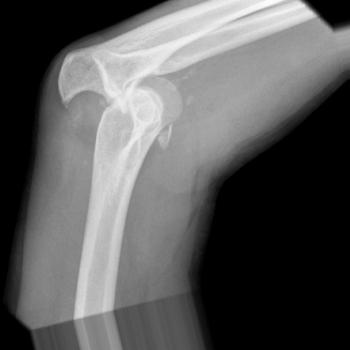Fracture: (54, 81, 123, 126)
